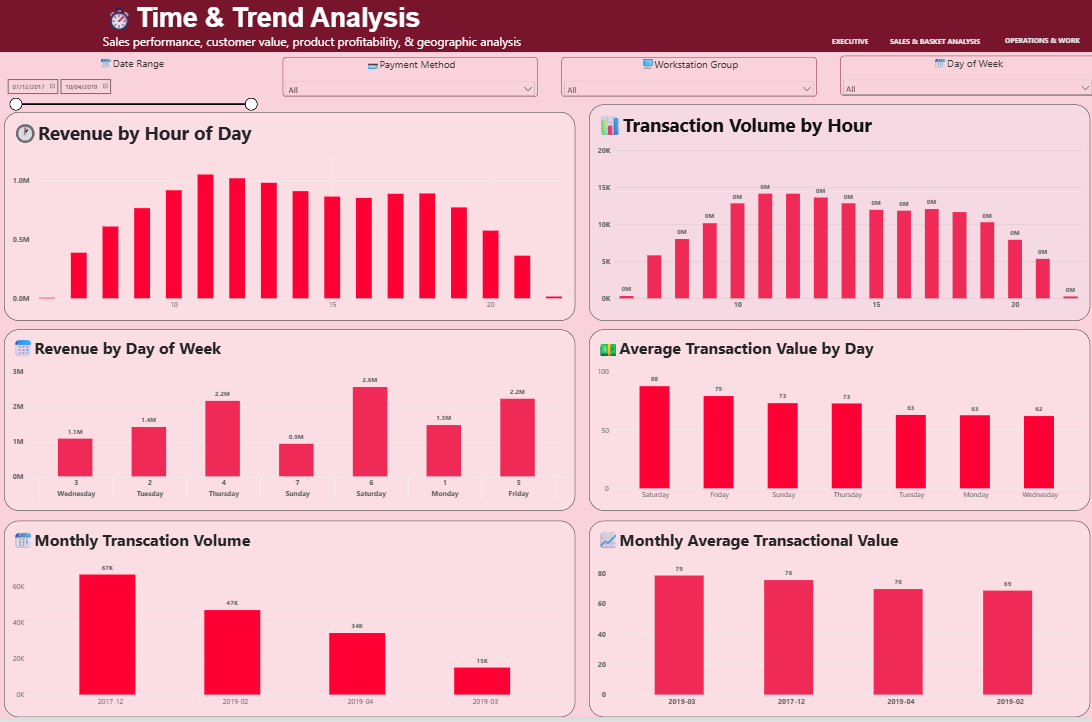

The page's visual inventory and layout, read from the dashboard file:
{"tool":"powerbi","page":{"name":"Page 2","canvas":[2200,1440],"ordinal":1},"visuals":[{"type":"shape","box":[0,0,2600,110.1],"z":0},{"type":"clusteredColumnChart","title":"📊Transaction Volume by Hour","fields":{"Category":["analytics v_hourly_performance.hour"],"Y":["analytics fact_transactions.Total Transactions"]},"box":[1180,215,1002.5,432.5],"z":1000},{"type":"textbox","box":[207.1,7.4,1200.8,120.8],"z":2000},{"type":"clusteredColumnChart","title":"📆Monthly Transcation Volume","fields":{"Category":["DateTable.Year Month"],"Y":["analytics fact_transactions.Total Transactions"]},"box":[10,1047.5,1142.5,392.5],"z":3000},{"type":"clusteredColumnChart","title":"💵Average Transaction Value by Day","fields":{"Category":["DateTable.Day of Week"],"Y":["analytics fact_transactions.Average Transaction Value"]},"box":[1180,665,1002.5,362.5],"z":4000},{"type":"clusteredColumnChart","title":"📅Revenue by Day of Week","fields":{"Category":["DateTable.Day of Week","DateTable.Day Number"],"Y":["analytics fact_transactions.Total Revenue"]},"box":[10,665,1142.5,362.5],"z":5000},{"type":"clusteredColumnChart","title":"🕐Revenue by Hour of Day","fields":{"Category":["analytics fact_transactions.hour"],"Y":["analytics fact_transactions.Total Revenue"]},"box":[10,230,1142.5,417.5],"z":6000},{"type":"clusteredColumnChart","title":"📈Monthly Average Transactional Value","fields":{"Category":["DateTable.Year Month"],"Y":["analytics fact_transactions.Average Transaction Value"]},"box":[1180,1047.5,1002.5,392.5],"z":9000},{"type":"slicer","title":"📆Date Range","fields":{"Values":["DateTable.Date"]},"box":[10,117.5,510,112.5],"z":10000},{"type":"slicer","title":"💳Payment Method","fields":{"Values":["analytics v_payment_performance.payment_method"]},"box":[567.5,120,510,80],"z":11000},{"type":"slicer","title":"🖥️Workstation Group","fields":{"Values":["analytics v_workstation_performance.workstation_group_id"]},"box":[1125,120,510,80],"z":12000},{"type":"slicer","title":"📆Day of Week","fields":{"Values":["analytics v_day_of_week_performance.day_of_week"]},"box":[1682.5,117.5,510,80],"z":14000},{"type":"actionButton","title":"Analyze","box":[1646.2,65,110,45.5],"z":16000},{"type":"actionButton","title":"Analyze","box":[1762.5,65,219.1,45.5],"z":17000},{"type":"actionButton","title":"Analyze","box":[1981.2,65,208.8,45],"z":18000}]}

Visuals, with their boxes in screenshot pixels (x1, y1, x2, y2), scaled from the page's 2200x1440 canvas onto the 1092x722 screenshot:
shape: {"left": 0, "top": 0, "right": 1091, "bottom": 55}
"📊Transaction Volume by Hour" clusteredColumnChart: {"left": 586, "top": 108, "right": 1083, "bottom": 325}
textbox: {"left": 103, "top": 4, "right": 699, "bottom": 64}
"📆Monthly Transcation Volume" clusteredColumnChart: {"left": 5, "top": 525, "right": 572, "bottom": 721}
"💵Average Transaction Value by Day" clusteredColumnChart: {"left": 586, "top": 333, "right": 1083, "bottom": 515}
"📅Revenue by Day of Week" clusteredColumnChart: {"left": 5, "top": 333, "right": 572, "bottom": 515}
"🕐Revenue by Hour of Day" clusteredColumnChart: {"left": 5, "top": 115, "right": 572, "bottom": 325}
"📈Monthly Average Transactional Value" clusteredColumnChart: {"left": 586, "top": 525, "right": 1083, "bottom": 721}
"📆Date Range" slicer: {"left": 5, "top": 59, "right": 258, "bottom": 115}
"💳Payment Method" slicer: {"left": 282, "top": 60, "right": 535, "bottom": 100}
"🖥️Workstation Group" slicer: {"left": 558, "top": 60, "right": 812, "bottom": 100}
"📆Day of Week" slicer: {"left": 835, "top": 59, "right": 1088, "bottom": 99}
"Analyze" actionButton: {"left": 817, "top": 33, "right": 872, "bottom": 55}
"Analyze" actionButton: {"left": 875, "top": 33, "right": 984, "bottom": 55}
"Analyze" actionButton: {"left": 983, "top": 33, "right": 1087, "bottom": 55}
